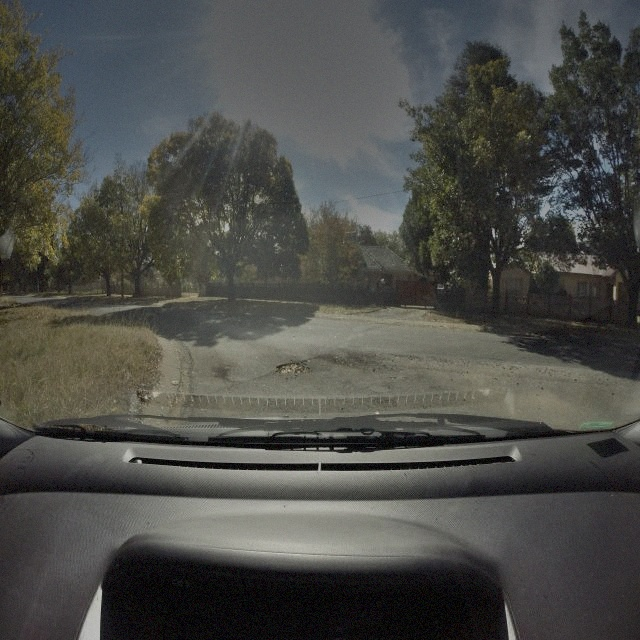pothole: (275, 360, 311, 378)
